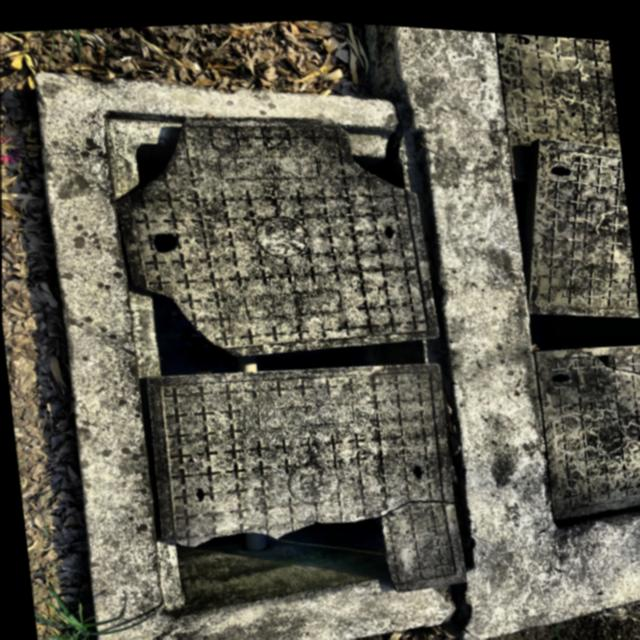cracks: (553, 494, 640, 534)
open_manhole: (38, 93, 464, 620)
